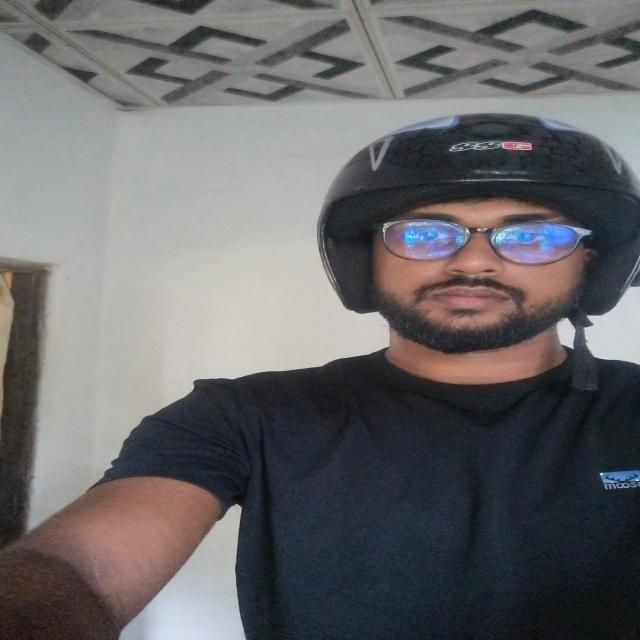Helmet_Wearer: (253, 102, 640, 403)
Person: (13, 113, 640, 640)
